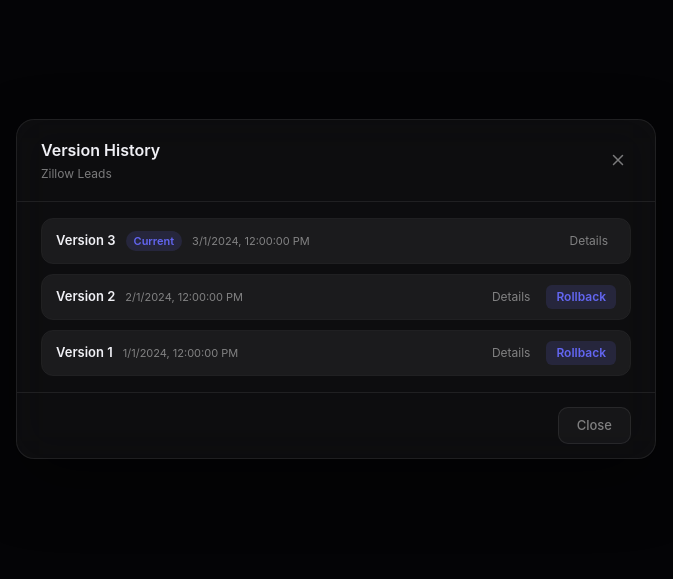
RegexVersionHistory › shows version details when Details button is clicked
Expected: the list with test id "version-list" is shown, [41, 218, 631, 376]
Click the button with test id "toggle-version-2" at [511, 297], box [484, 285, 538, 309]
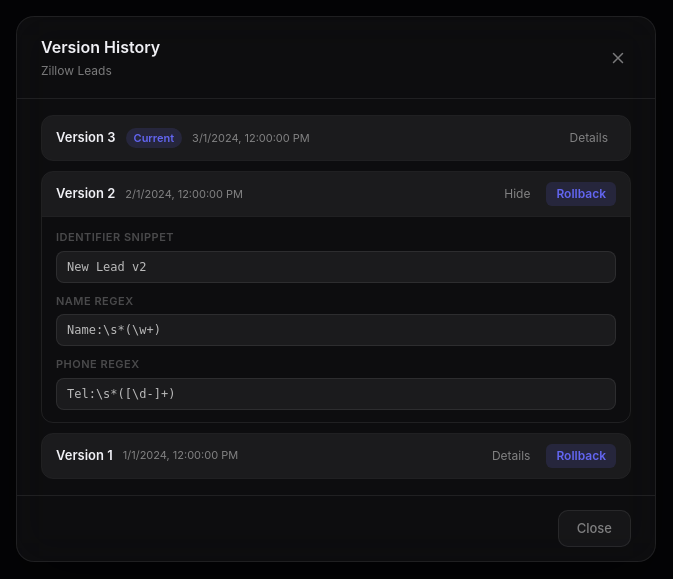
Expected: the element with test id "version-details-2" is shown, [42, 216, 630, 422]
Expected: the text "Name:\\s*(\\w+)" is shown, [56, 314, 616, 346]
